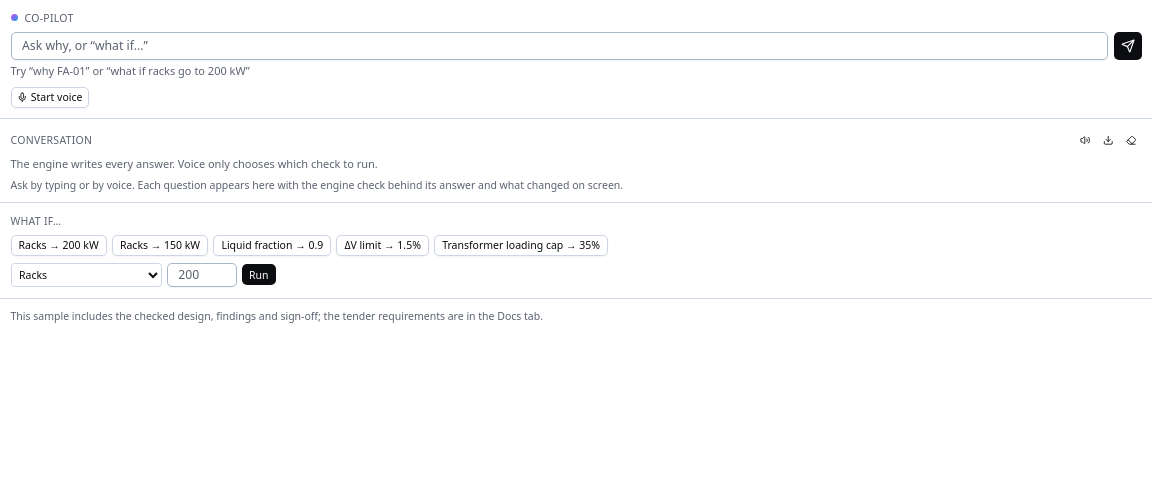
Test case: a typed "why" shows its card: what was asked, the engine check, the answer and what changed on screen
The width and height of the screenshot is (1152, 496).
Type "why did FA-01 fail?" into the field named "Ask the co-pilot". click: (559, 46)
box: [10, 32, 1108, 60]
Then press Enter
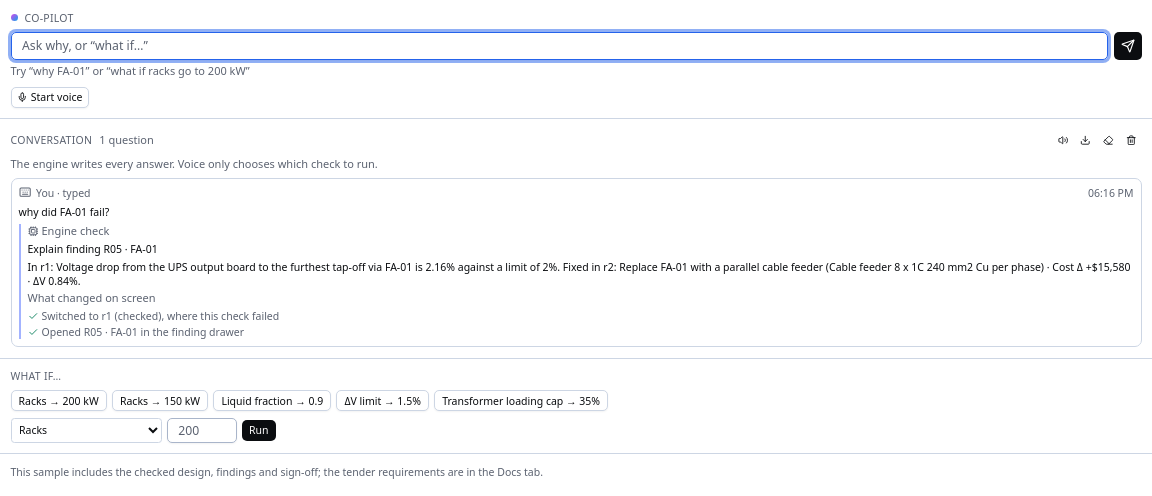
Expected: the text "Explain finding R05 · FA-01" is shown, [28, 242, 158, 256]
Expected: the text "You · typed" is shown, [36, 186, 90, 200]
Expected: the text "why did FA-01 fail?" is shown, [18, 205, 109, 219]
